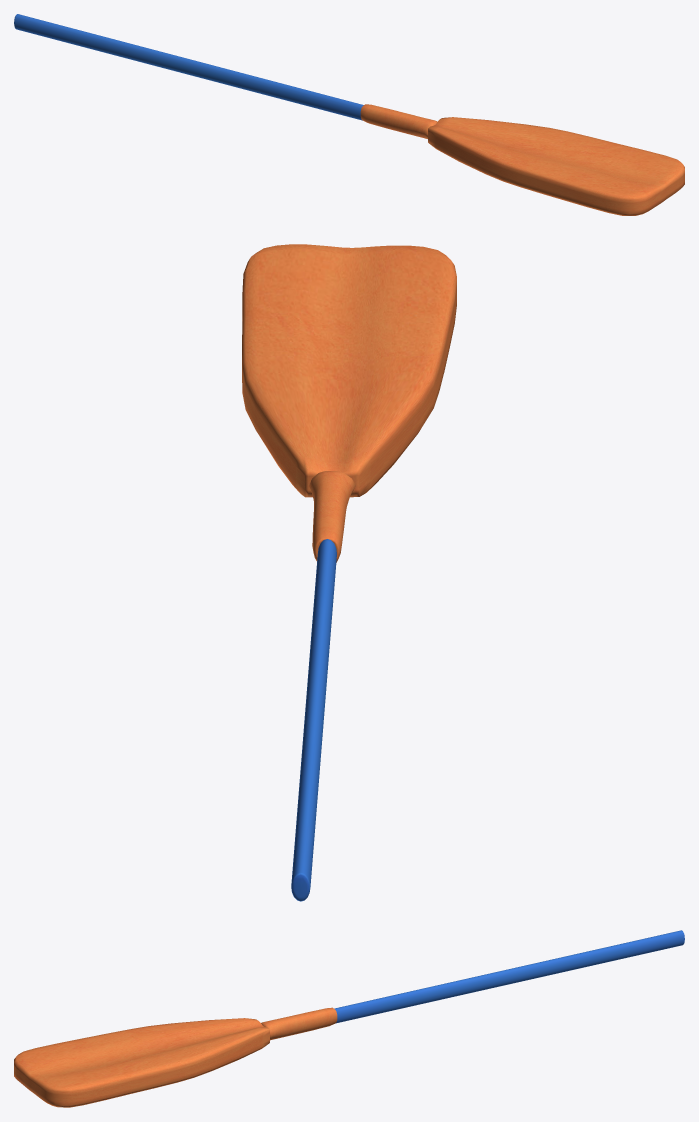
Rendered from paddle.fbx.
3 views of the same model, one above another, from view 1: azimuth 30°, elevation 25°; view 2: azimuth 150°, elevation 25°; view 3: azimuth 270°, elevation 25° (orthographic). The views are drawn at different scales.
Parts seen in each view (by area): view 1: pCube1, pCylinder2, pCylinder1; view 2: pCube1, pCylinder2, pCylinder1; view 3: pCube1, pCylinder2, pCylinder1.
Boxes of the visible parts, bbox=[...] form: pCube1: bbox=[428, 117, 684, 215]; pCylinder2: bbox=[14, 14, 363, 120]; pCylinder1: bbox=[360, 104, 437, 138]; pCube1: bbox=[242, 244, 456, 497]; pCylinder2: bbox=[291, 539, 336, 901]; pCylinder1: bbox=[309, 471, 355, 562]; pCube1: bbox=[14, 1018, 269, 1107]; pCylinder2: bbox=[334, 930, 684, 1023]; pCylinder1: bbox=[261, 1007, 337, 1040].
Size of the model in its own units: 2.39 by 0.1386 by 4.14.
